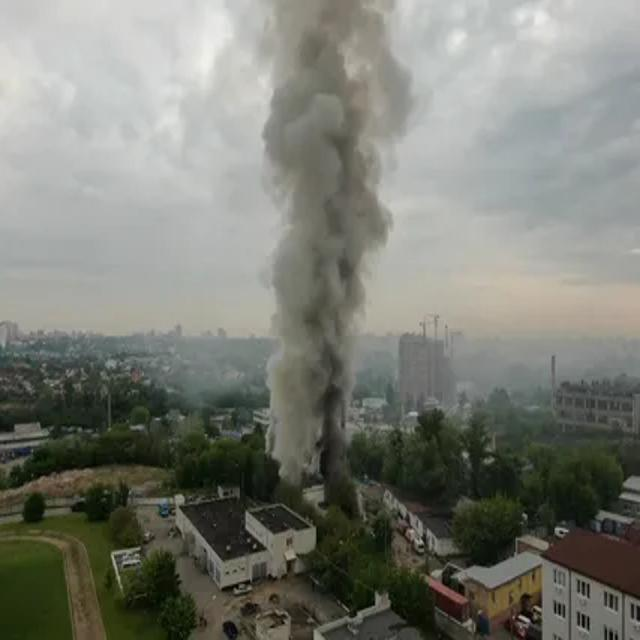Smoke: (235, 0, 419, 486)
